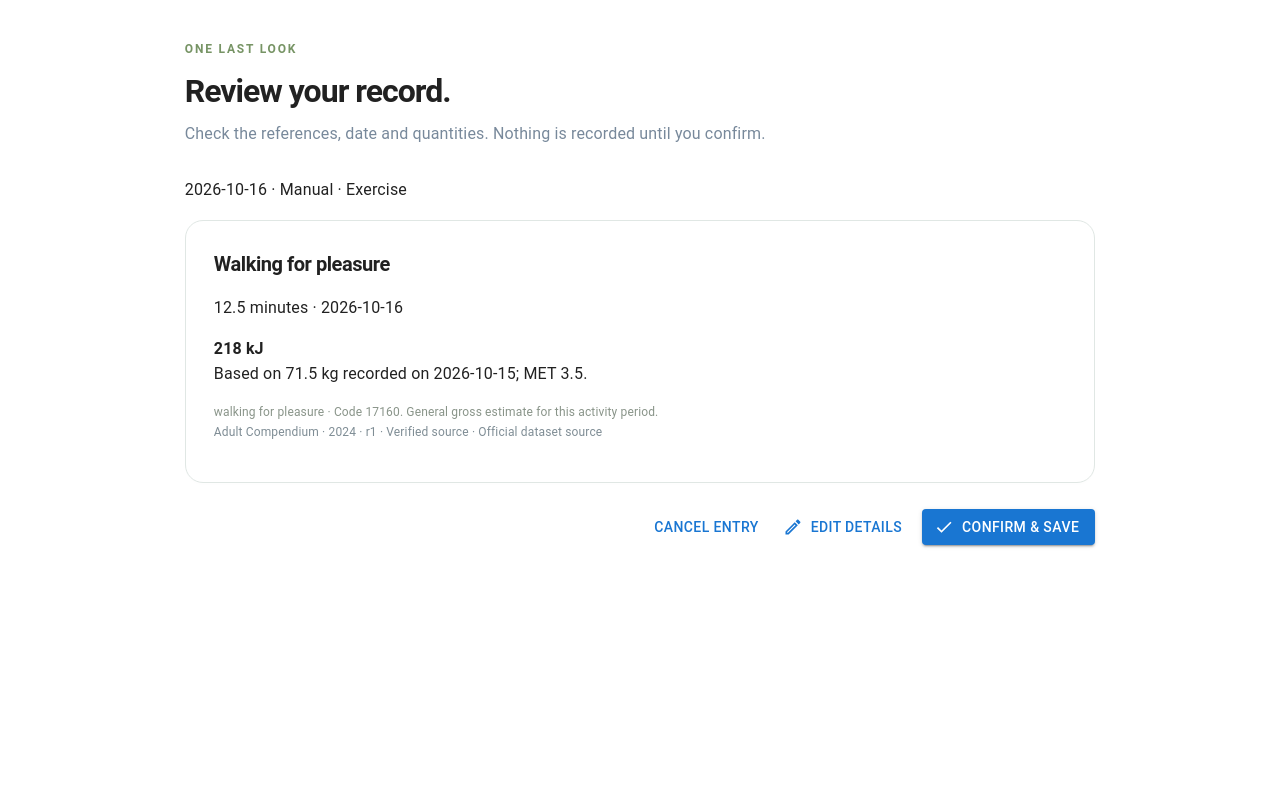
F10 create estimate re-review › shows old/new basis after409, freezes confirmation until reviewed and uses a new submission ID only after known rejection
Click the button "Confirm & save".
click(1009, 527)  # box [922,509,1095,545]
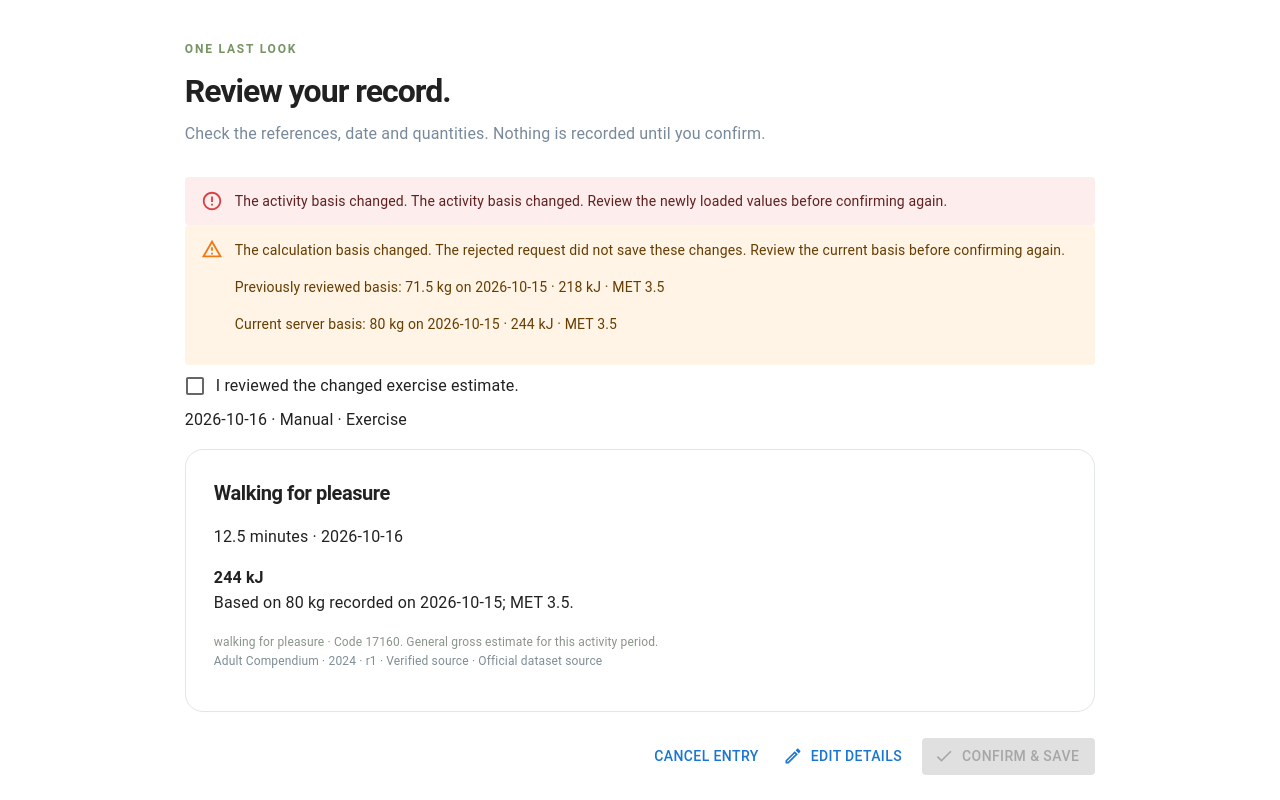
expect the text "Previously reviewed basis: 71.5 kg" is shown: met, box [235,279,665,295]
expect the text "Current server basis: 80 kg on 2026-10-15 · 244 kJ · MET 3.5" is shown: met, box [235,316,617,332]
expect the button "Confirm & save" is disabled: met, box [922,738,1095,775]
Click the checkbox labelled "I reviewed the changed exercise estimate.".
click(351, 386)  # box [183,374,519,398]
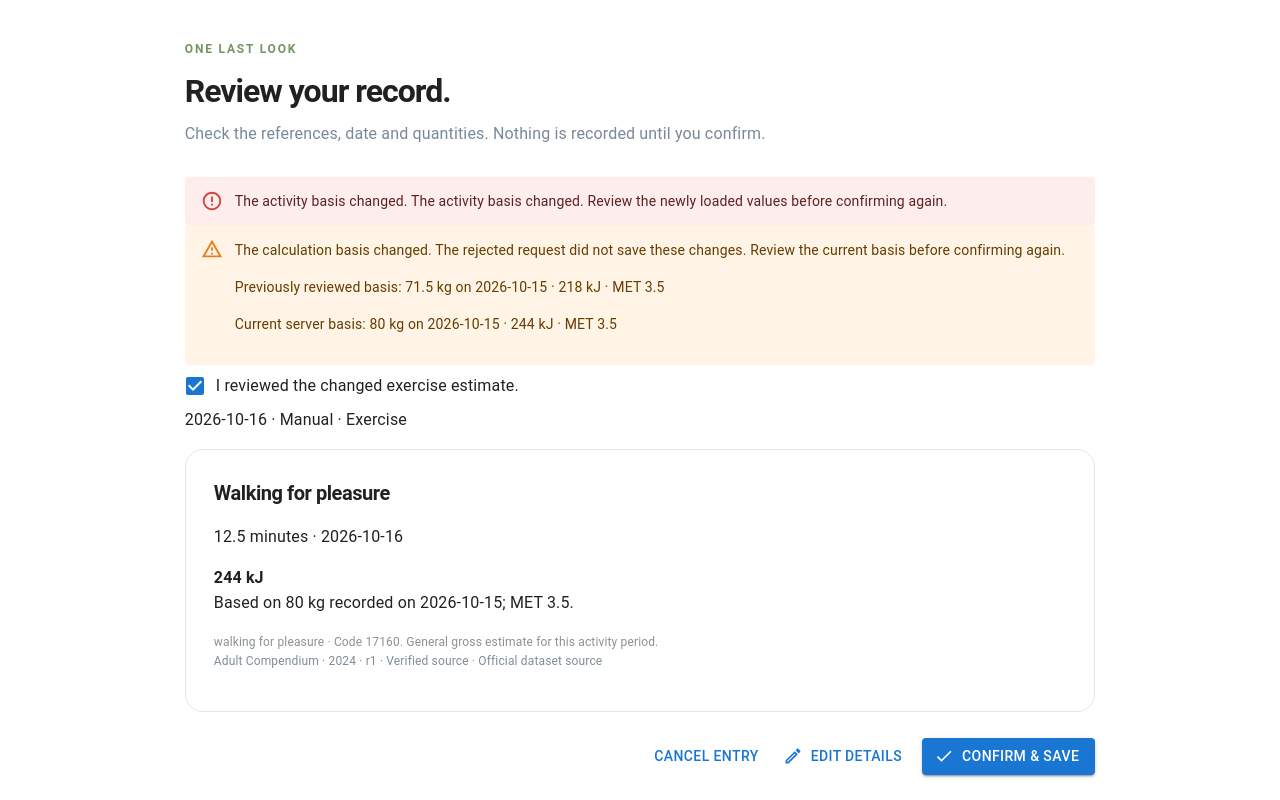
Click the button "Confirm & save".
click(1009, 756)  # box [922,738,1095,775]
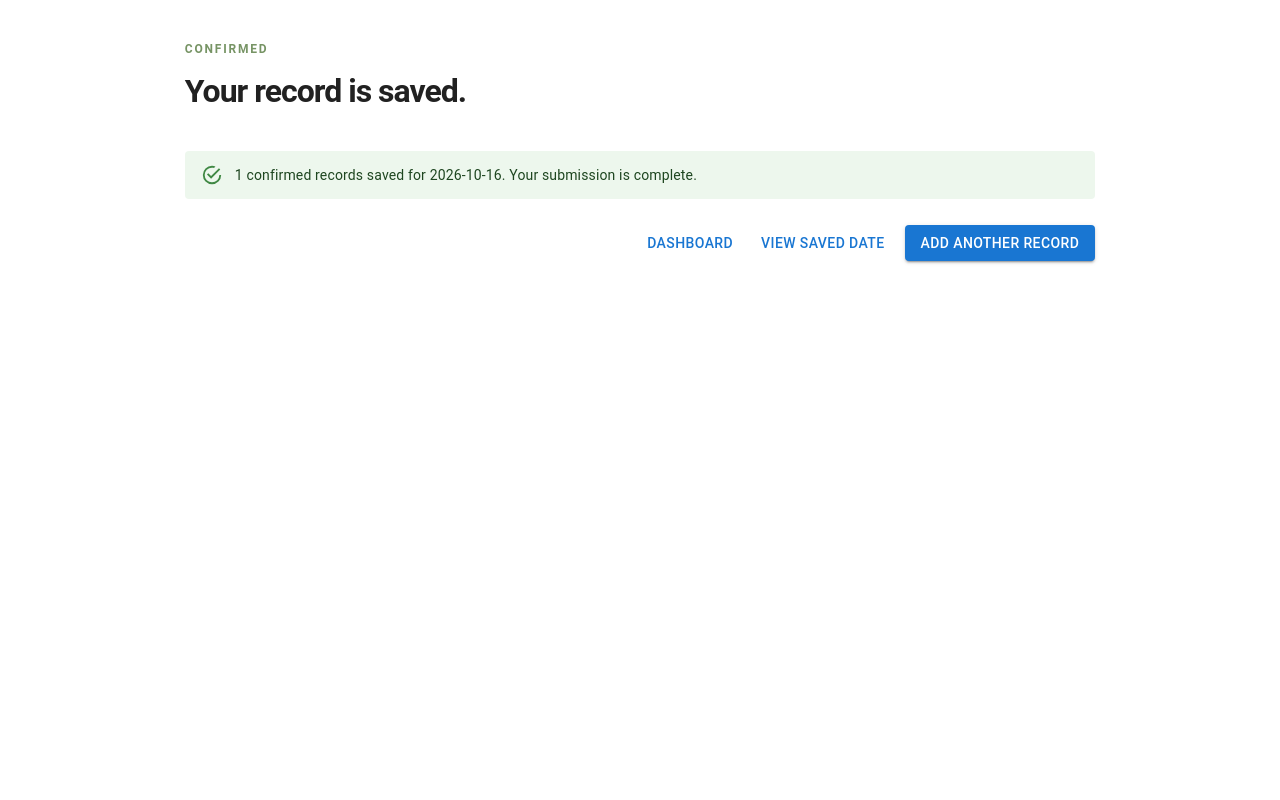
expect the heading "Your record is saved." is shown: met, box [185,72,466,111]
